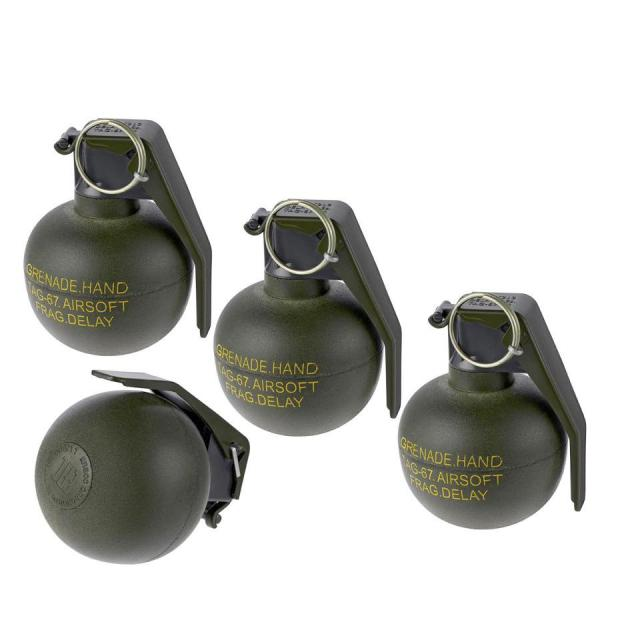grenade: (398, 292, 587, 532), (213, 200, 403, 435), (25, 120, 212, 356), (36, 372, 254, 566)
